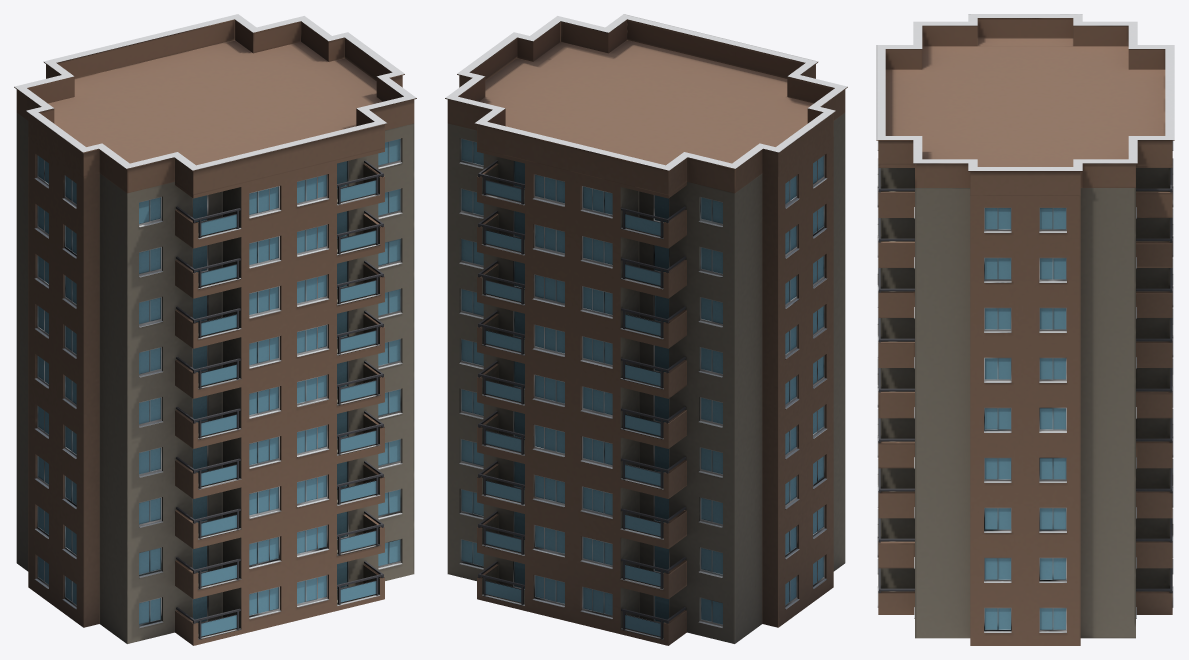
File: Apartment1Optimized.fbx
The picture shows the model from 3 angles, left to right: view 1: azimuth 30°, elevation 25°; view 2: azimuth 150°, elevation 25°; view 3: azimuth 270°, elevation 25°; orthographic projection.
Visible parts, largest first — view 1: Apartment1; view 2: Apartment1; view 3: Apartment1.
Part boxes in pixels (x1,y1,x2,y2): Apartment1: [14, 14, 416, 645]; Apartment1: [445, 14, 847, 645]; Apartment1: [876, 14, 1174, 645].
Bounding box in the file's own units: 2020 × 2854 × 1620.
